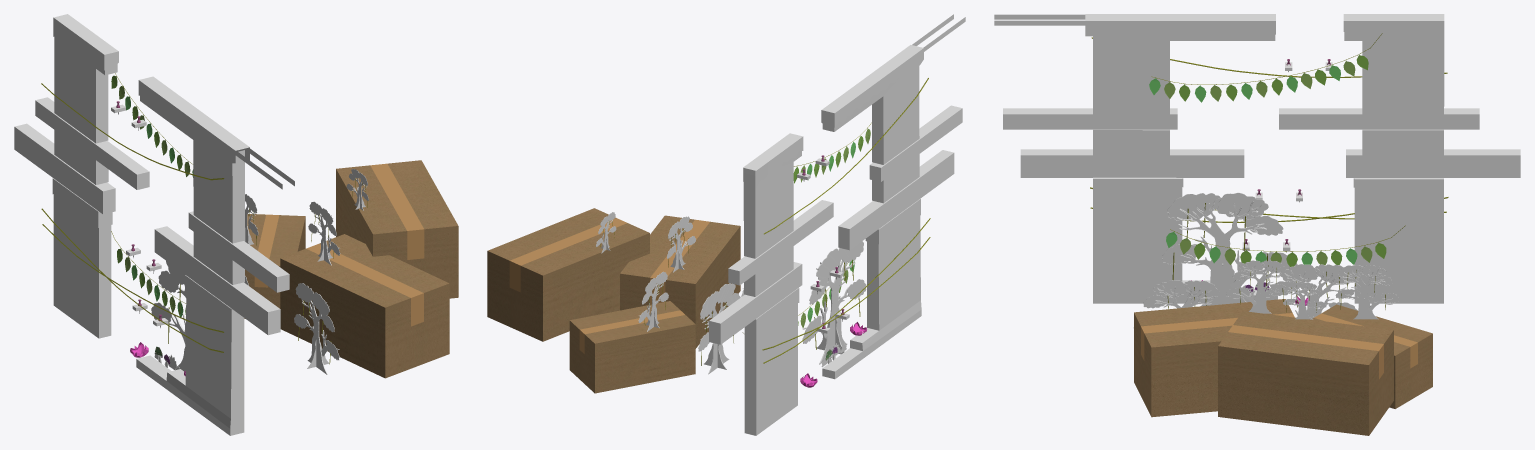
The model's file is Pantalla_12.DEF.fbx.
The picture shows the model from 3 angles, left to right: view 1: azimuth 30°, elevation 25°; view 2: azimuth 150°, elevation 25°; view 3: azimuth 270°, elevation 25°; orthographic projection. The views are drawn at different scales.
Parts seen in each view (by area): view 1: Screen10, Cube.020, Cube.022, Screen10.004, Screen10.005, Cube.021, Screen10.002, Screen10.003, Arbol1.011, Arbol1.010, Arbol1.014, Plane.115 (+4 smaller); view 2: Screen10, Cube.022, Cube.021, Cube.020, Screen10.004, Arbol1.010, Screen10.005, Screen10.002, Screen10.003, Arbol1.012, Arbol1.013, Arbol1.014 (+2 smaller); view 3: Screen10, Cube.022, Cube.020, Screen10.004, Arbol1.010, Screen10.005, Screen10.002, Cube.021, Screen10.003, Plane.115, Plane.114, Arbol1.012 (+4 smaller).
Part boxes in pixels (x1,y1,x2,y2): Screen10: (52, 14, 294, 435); Cube.020: (280, 234, 449, 378); Cube.022: (336, 160, 458, 298); Screen10.004: (154, 226, 280, 335); Screen10.005: (14, 123, 115, 214); Cube.021: (244, 214, 305, 318); Screen10.002: (35, 97, 149, 189); Screen10.003: (188, 211, 289, 292); Arbol1.011: (294, 283, 339, 374); Arbol1.010: (151, 261, 186, 371); Arbol1.014: (308, 201, 340, 265); Plane.115: (111, 73, 193, 177); Screen10: (743, 14, 965, 435); Cube.022: (487, 208, 649, 341); Cube.021: (569, 301, 695, 393); Cube.020: (620, 215, 740, 348); Screen10.004: (838, 150, 954, 250); Arbol1.010: (802, 241, 866, 364); Screen10.005: (709, 262, 802, 344); Screen10.002: (728, 200, 833, 285); Screen10.003: (869, 105, 962, 181); Arbol1.012: (698, 283, 740, 374); Arbol1.013: (638, 271, 668, 331); Arbol1.014: (667, 216, 695, 272); Screen10: (994, 14, 1444, 303); Cube.022: (1218, 311, 1393, 435); Cube.020: (1134, 299, 1294, 417); Screen10.004: (1020, 149, 1244, 177); Arbol1.010: (1162, 192, 1297, 306); Screen10.005: (1346, 149, 1520, 177); Screen10.002: (1279, 108, 1479, 129); Cube.021: (1312, 304, 1432, 408); Screen10.003: (1003, 108, 1177, 129); Plane.115: (1149, 33, 1382, 102); Plane.114: (1166, 225, 1405, 266); Arbol1.012: (1268, 264, 1357, 318).
Size of the model in its own units: 11414 by 9284 by 15494.
